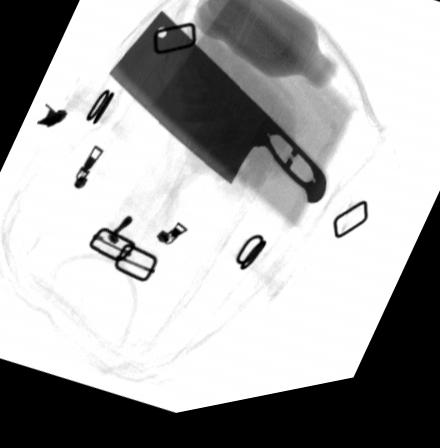Knife: (106, 14, 328, 217)
